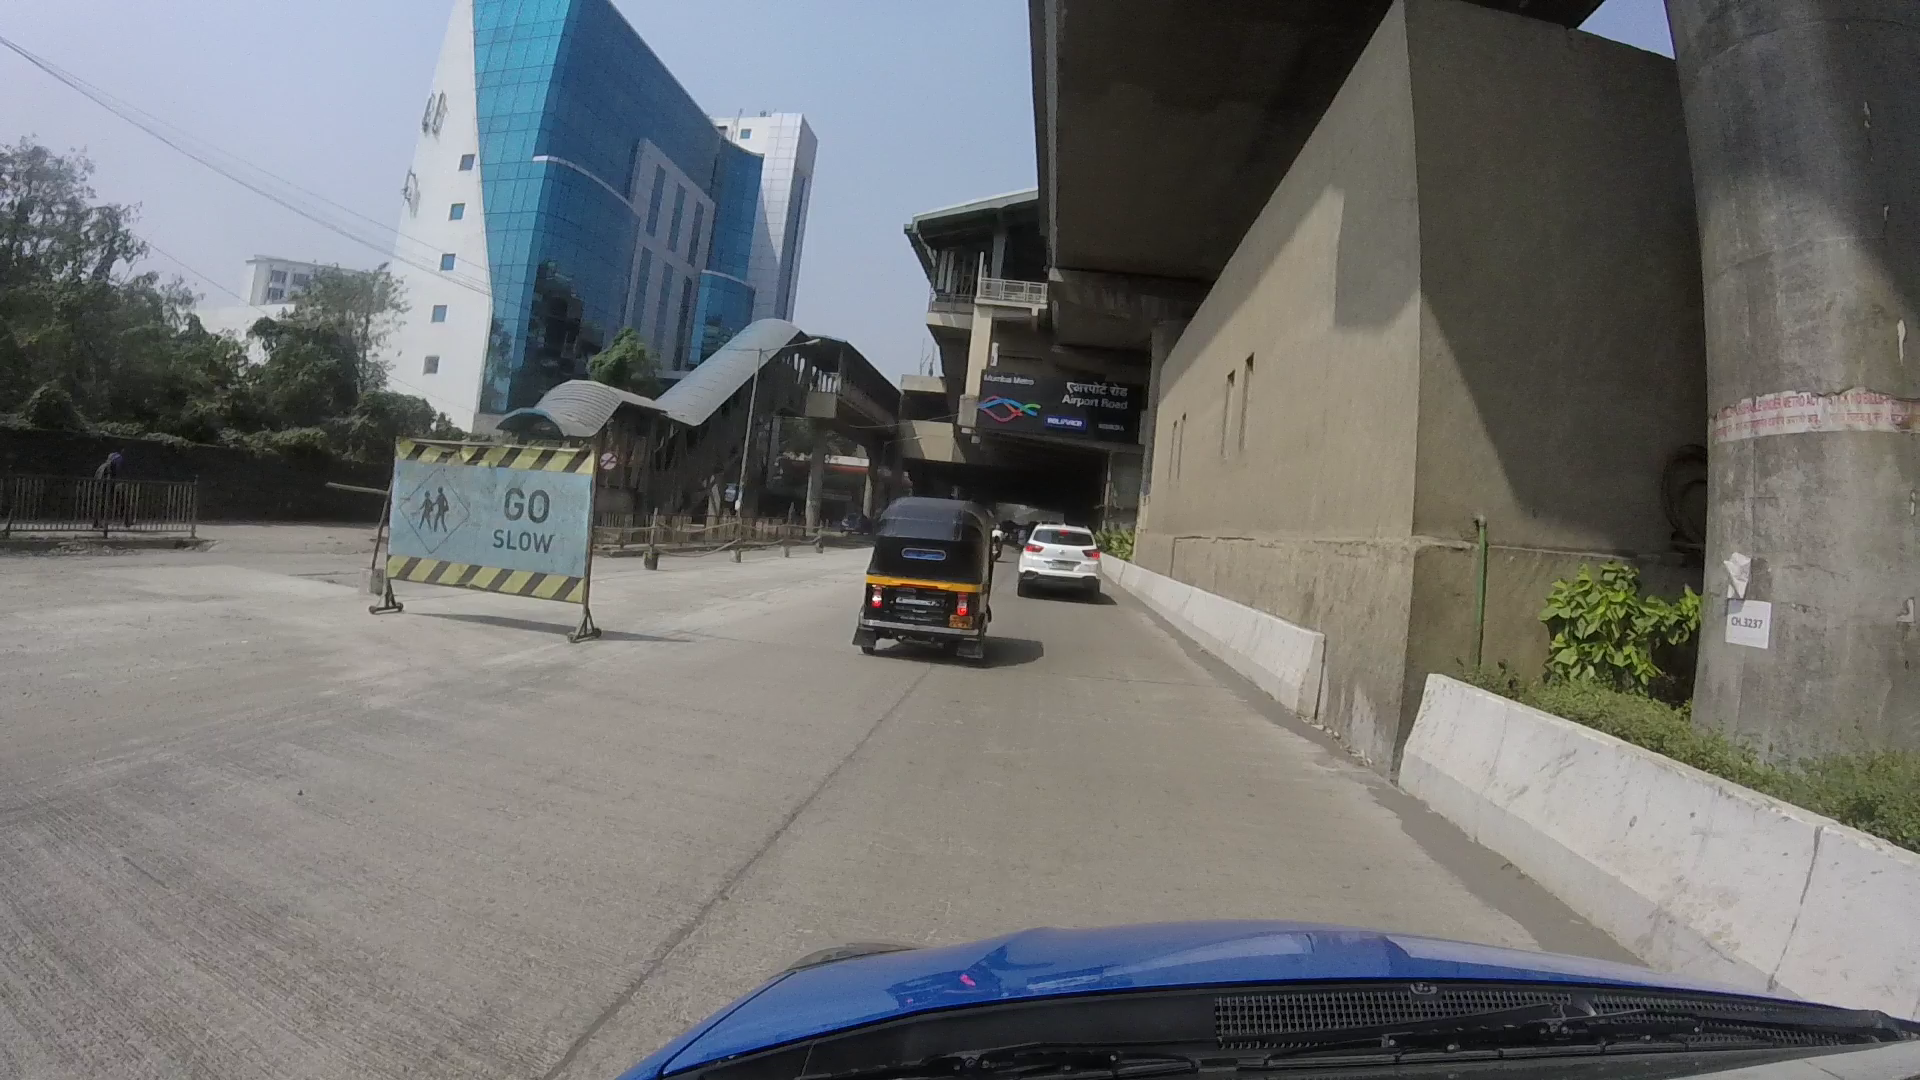car: (1001, 501, 1130, 611)
rickshaw: (827, 460, 1021, 709)
